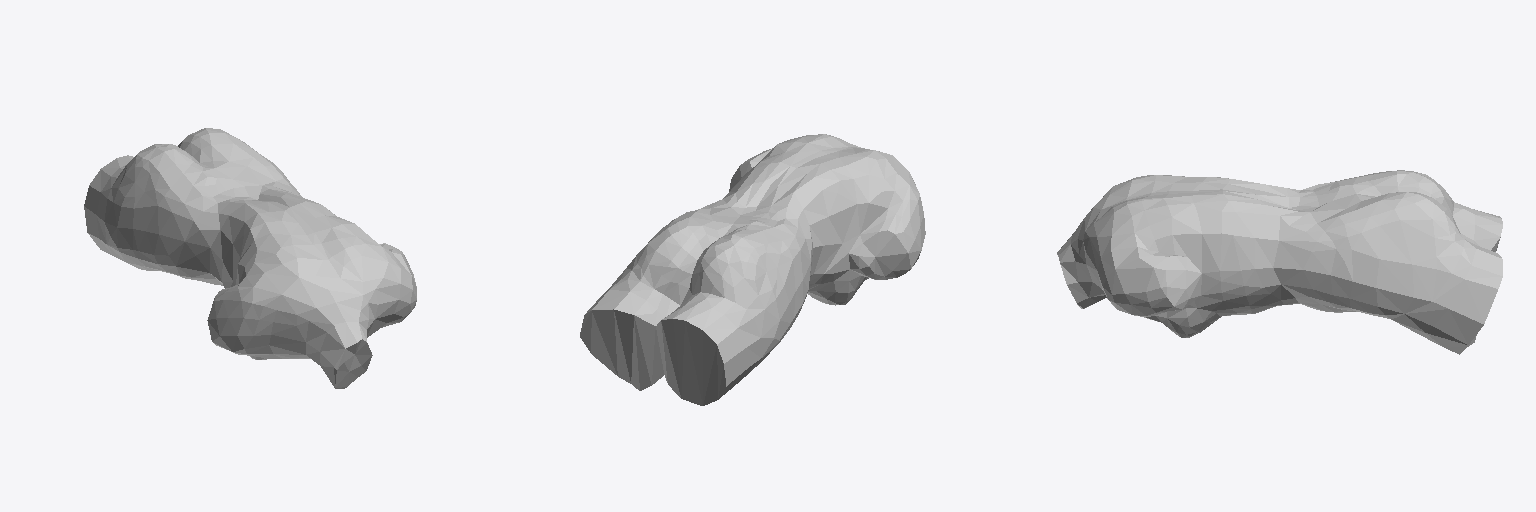
File: venus.obj
The picture shows the model from 3 angles: view 1: azimuth 30°, elevation 25°; view 2: azimuth 150°, elevation 25°; view 3: azimuth 270°, elevation 25°; orthographic projection.
Parts seen in each view (by area): view 1: default 0main, default 4dblk; view 2: default 0main, default 1dblk, default 2dblk; view 3: default 0main, default 3dblk.
Part boxes in pixels (bbox=[...]): default 0main: bbox=[84, 128, 416, 387]; default 4dblk: bbox=[334, 339, 372, 388]; default 0main: bbox=[586, 134, 925, 399]; default 1dblk: bbox=[580, 309, 725, 405]; default 2dblk: bbox=[849, 230, 910, 279]; default 0main: bbox=[1057, 170, 1502, 354]; default 3dblk: bbox=[1166, 256, 1201, 309].
Bounding box in the file's own units: 5.15 × 3.74 × 10.5.